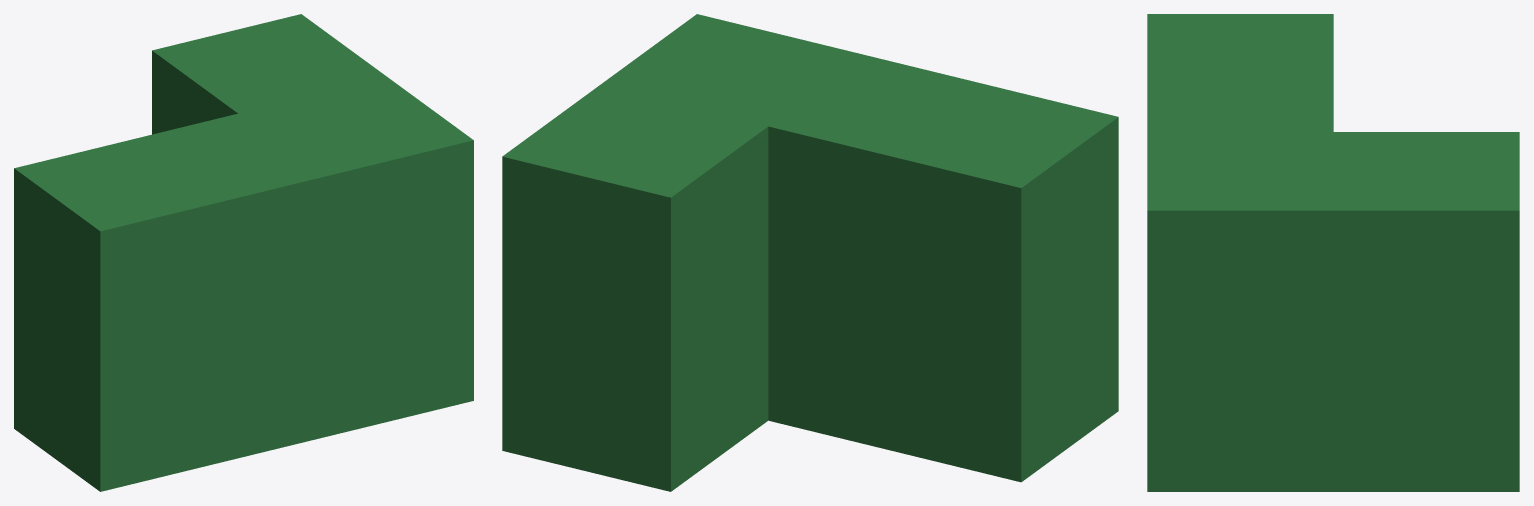
File: garden2_hedge_corner.glb
3 renders of one model, left to right at view 1: azimuth 30°, elevation 25°; view 2: azimuth 150°, elevation 25°; view 3: azimuth 270°, elevation 25°, orthographic. The views are drawn at different scales.
Visible parts, largest first — view 1: hedge_corner; view 2: hedge_corner; view 3: hedge_corner.
Part boxes in pixels (x1,y1,x2,y2): hedge_corner: (14,14,473,491); hedge_corner: (502,14,1118,491); hedge_corner: (1147,14,1519,491).
Bounding box in the file's own units: 0.75 × 0.5 × 0.6.
